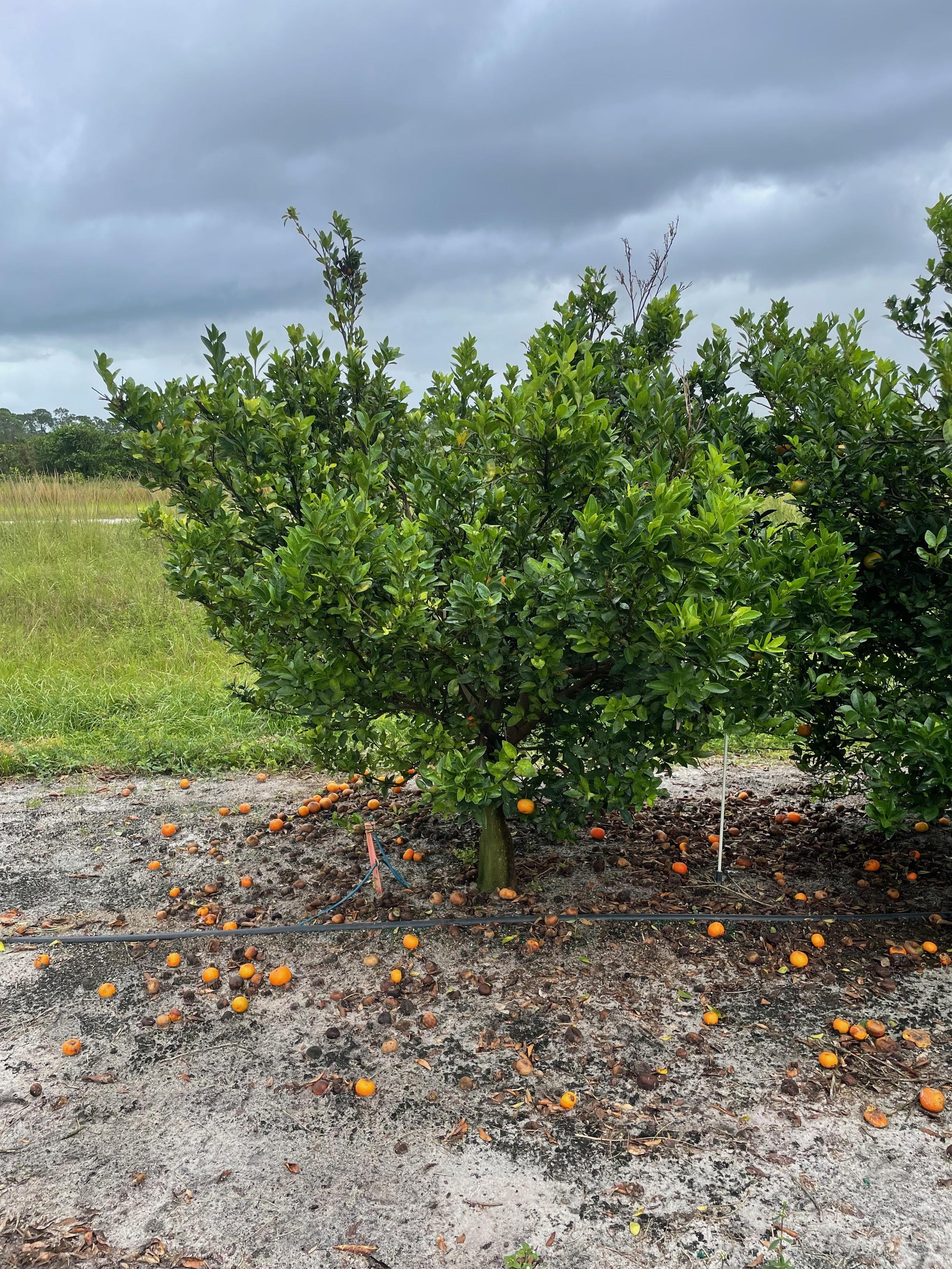fruit_on_ground: (789, 477, 811, 497), (863, 551, 884, 571), (516, 796, 536, 816), (773, 440, 793, 457), (796, 722, 814, 738)
fruit_on_tree: (919, 1085, 947, 1112), (903, 1026, 932, 1047), (864, 1106, 889, 1129), (269, 965, 292, 986), (61, 1036, 83, 1057), (354, 1076, 376, 1097), (864, 1017, 886, 1037), (788, 948, 810, 968), (875, 1035, 898, 1054), (511, 1056, 534, 1075), (706, 919, 726, 939), (818, 1049, 839, 1068), (559, 1089, 578, 1109), (636, 1071, 657, 1089), (847, 1022, 868, 1040), (831, 1016, 851, 1034), (200, 965, 220, 983), (903, 938, 924, 955), (96, 981, 117, 998), (309, 1077, 328, 1095), (380, 1036, 399, 1054), (496, 885, 517, 901), (458, 1073, 476, 1091), (808, 932, 826, 950), (449, 888, 468, 905), (32, 952, 51, 969), (888, 943, 908, 959), (306, 1045, 326, 1061), (523, 936, 541, 953), (421, 1010, 438, 1028), (402, 932, 420, 949), (231, 995, 249, 1012), (702, 1009, 719, 1026), (238, 961, 256, 977), (588, 824, 606, 840), (862, 856, 881, 871), (144, 977, 161, 993), (242, 944, 259, 960), (165, 951, 182, 967), (921, 939, 939, 954), (159, 821, 177, 836), (318, 795, 334, 811), (428, 889, 444, 905), (400, 846, 416, 862), (734, 854, 751, 869), (927, 911, 945, 925), (382, 994, 400, 1008), (362, 953, 380, 967), (772, 870, 788, 885), (324, 1025, 341, 1039), (268, 817, 285, 831), (671, 860, 688, 874), (168, 1006, 183, 1021), (677, 840, 692, 855), (389, 967, 403, 983), (913, 819, 929, 833), (154, 1012, 170, 1026), (787, 809, 803, 823), (221, 919, 238, 932), (307, 800, 322, 814), (544, 912, 559, 926), (411, 848, 426, 862), (478, 983, 493, 996), (328, 987, 343, 1000), (377, 979, 392, 992), (326, 781, 341, 794), (886, 886, 901, 899), (227, 976, 243, 988), (330, 911, 346, 923), (334, 1004, 348, 1017), (362, 993, 376, 1006), (706, 831, 720, 844), (240, 874, 254, 887), (675, 834, 690, 846), (653, 829, 668, 841), (299, 820, 314, 832), (615, 855, 630, 867), (366, 797, 381, 809), (773, 810, 788, 822), (793, 890, 808, 902), (154, 908, 167, 921), (245, 834, 259, 846), (254, 771, 268, 783), (908, 848, 922, 860), (196, 905, 210, 917), (832, 800, 845, 812), (326, 792, 339, 804), (404, 766, 417, 778), (938, 952, 950, 965), (347, 772, 360, 784), (938, 815, 950, 828), (905, 870, 918, 882), (178, 776, 191, 788), (168, 885, 181, 897), (238, 801, 251, 813), (297, 803, 310, 815), (203, 882, 217, 893), (147, 859, 161, 870), (338, 781, 352, 792), (737, 789, 749, 801), (312, 792, 324, 804), (204, 914, 217, 925), (316, 998, 328, 1009), (394, 834, 406, 845), (378, 772, 390, 783), (392, 774, 404, 785), (728, 825, 740, 836), (186, 841, 199, 851), (362, 766, 373, 777), (294, 878, 306, 888), (218, 805, 230, 815), (187, 846, 198, 855)
